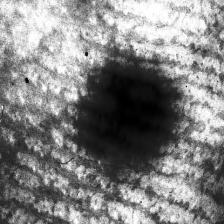Benign Marking or Mole: (82, 74, 172, 154)
